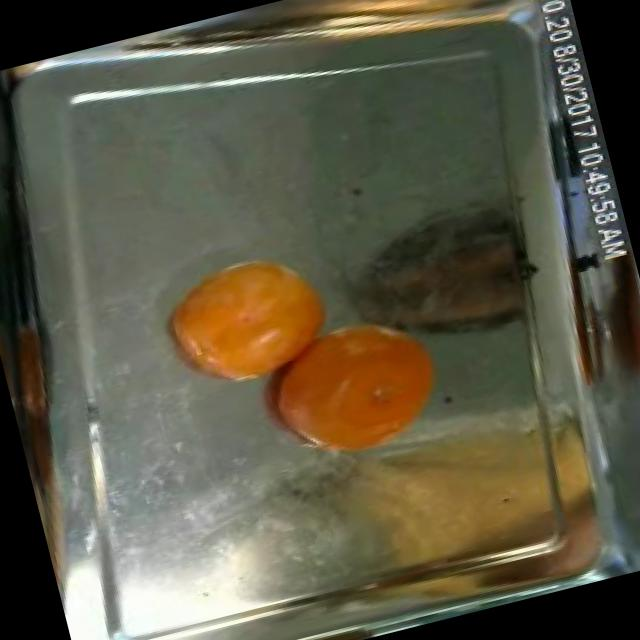Fruit: (234, 286, 476, 486), (135, 225, 364, 411), (347, 188, 563, 384)
